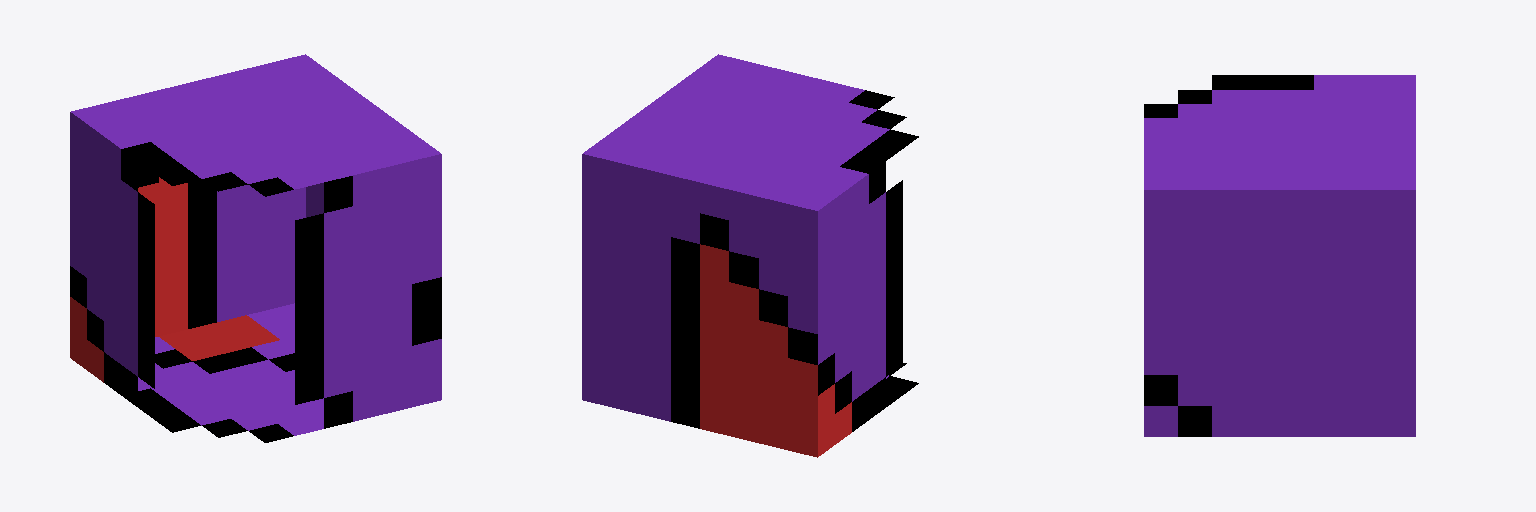
The picture shows the model from 3 angles: view 1: azimuth 30°, elevation 25°; view 2: azimuth 150°, elevation 25°; view 3: azimuth 270°, elevation 25°; orthographic projection.
Visible parts, largest first — view 1: Cube_Cube.001; view 2: Cube_Cube.001; view 3: Cube_Cube.001.
Boxes of the visible parts, <box> form: Cube_Cube.001: <box>70,54,441,442</box>; Cube_Cube.001: <box>582,54,918,457</box>; Cube_Cube.001: <box>1144,75,1415,436</box>.
Bounding box in the file's own units: 50 × 50 × 50.
Materials: 1 (1 with a texture image).